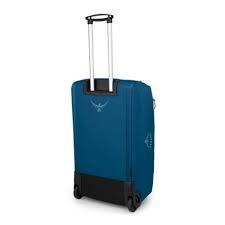suitcase: (69, 12, 158, 211)
